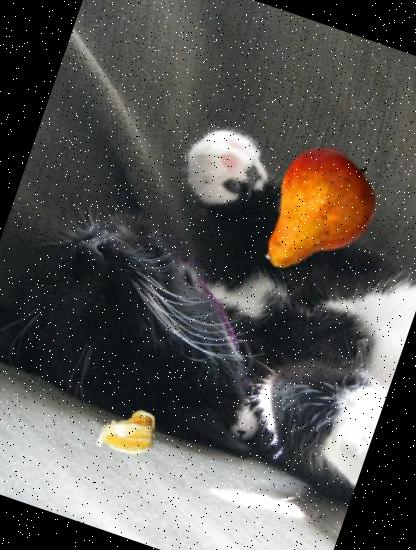Pear: (229, 125, 400, 296)
Physalis: (87, 394, 164, 470)
